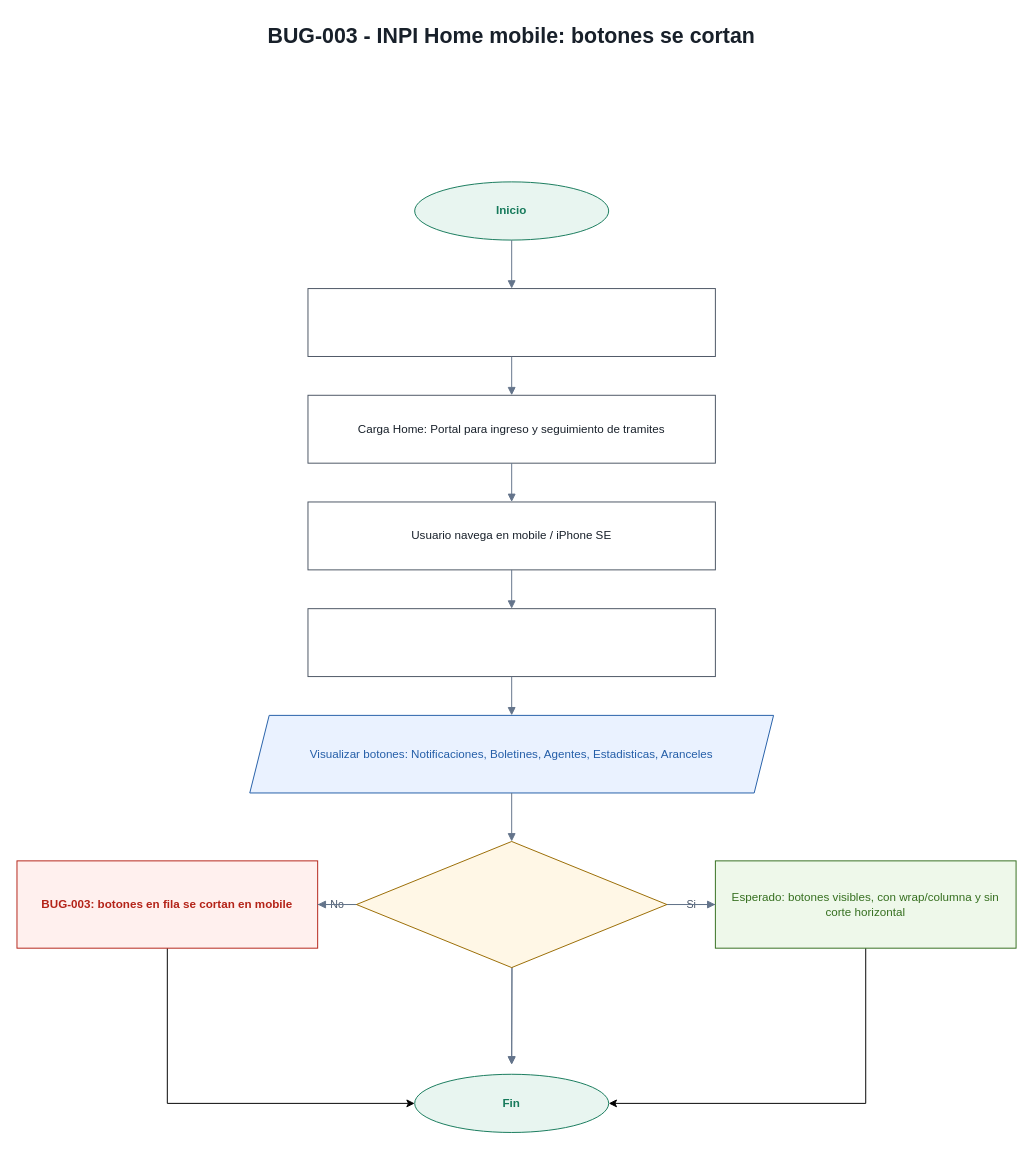
Some shapes in this 1033 by 1149 pixel diagram are drawn without their labels. The shapes that lost their labels are listed below. From the top down, each one's centre as x and y in pixels, then its label:
At pixel 511 322: "Abrir https://portaltramites.inpi.gob.ar/Home/index".
At pixel 511 642: "Bajar hasta accesos principales del portal".
At pixel 511 904: "Los botones se muestran completos en el viewport?".
